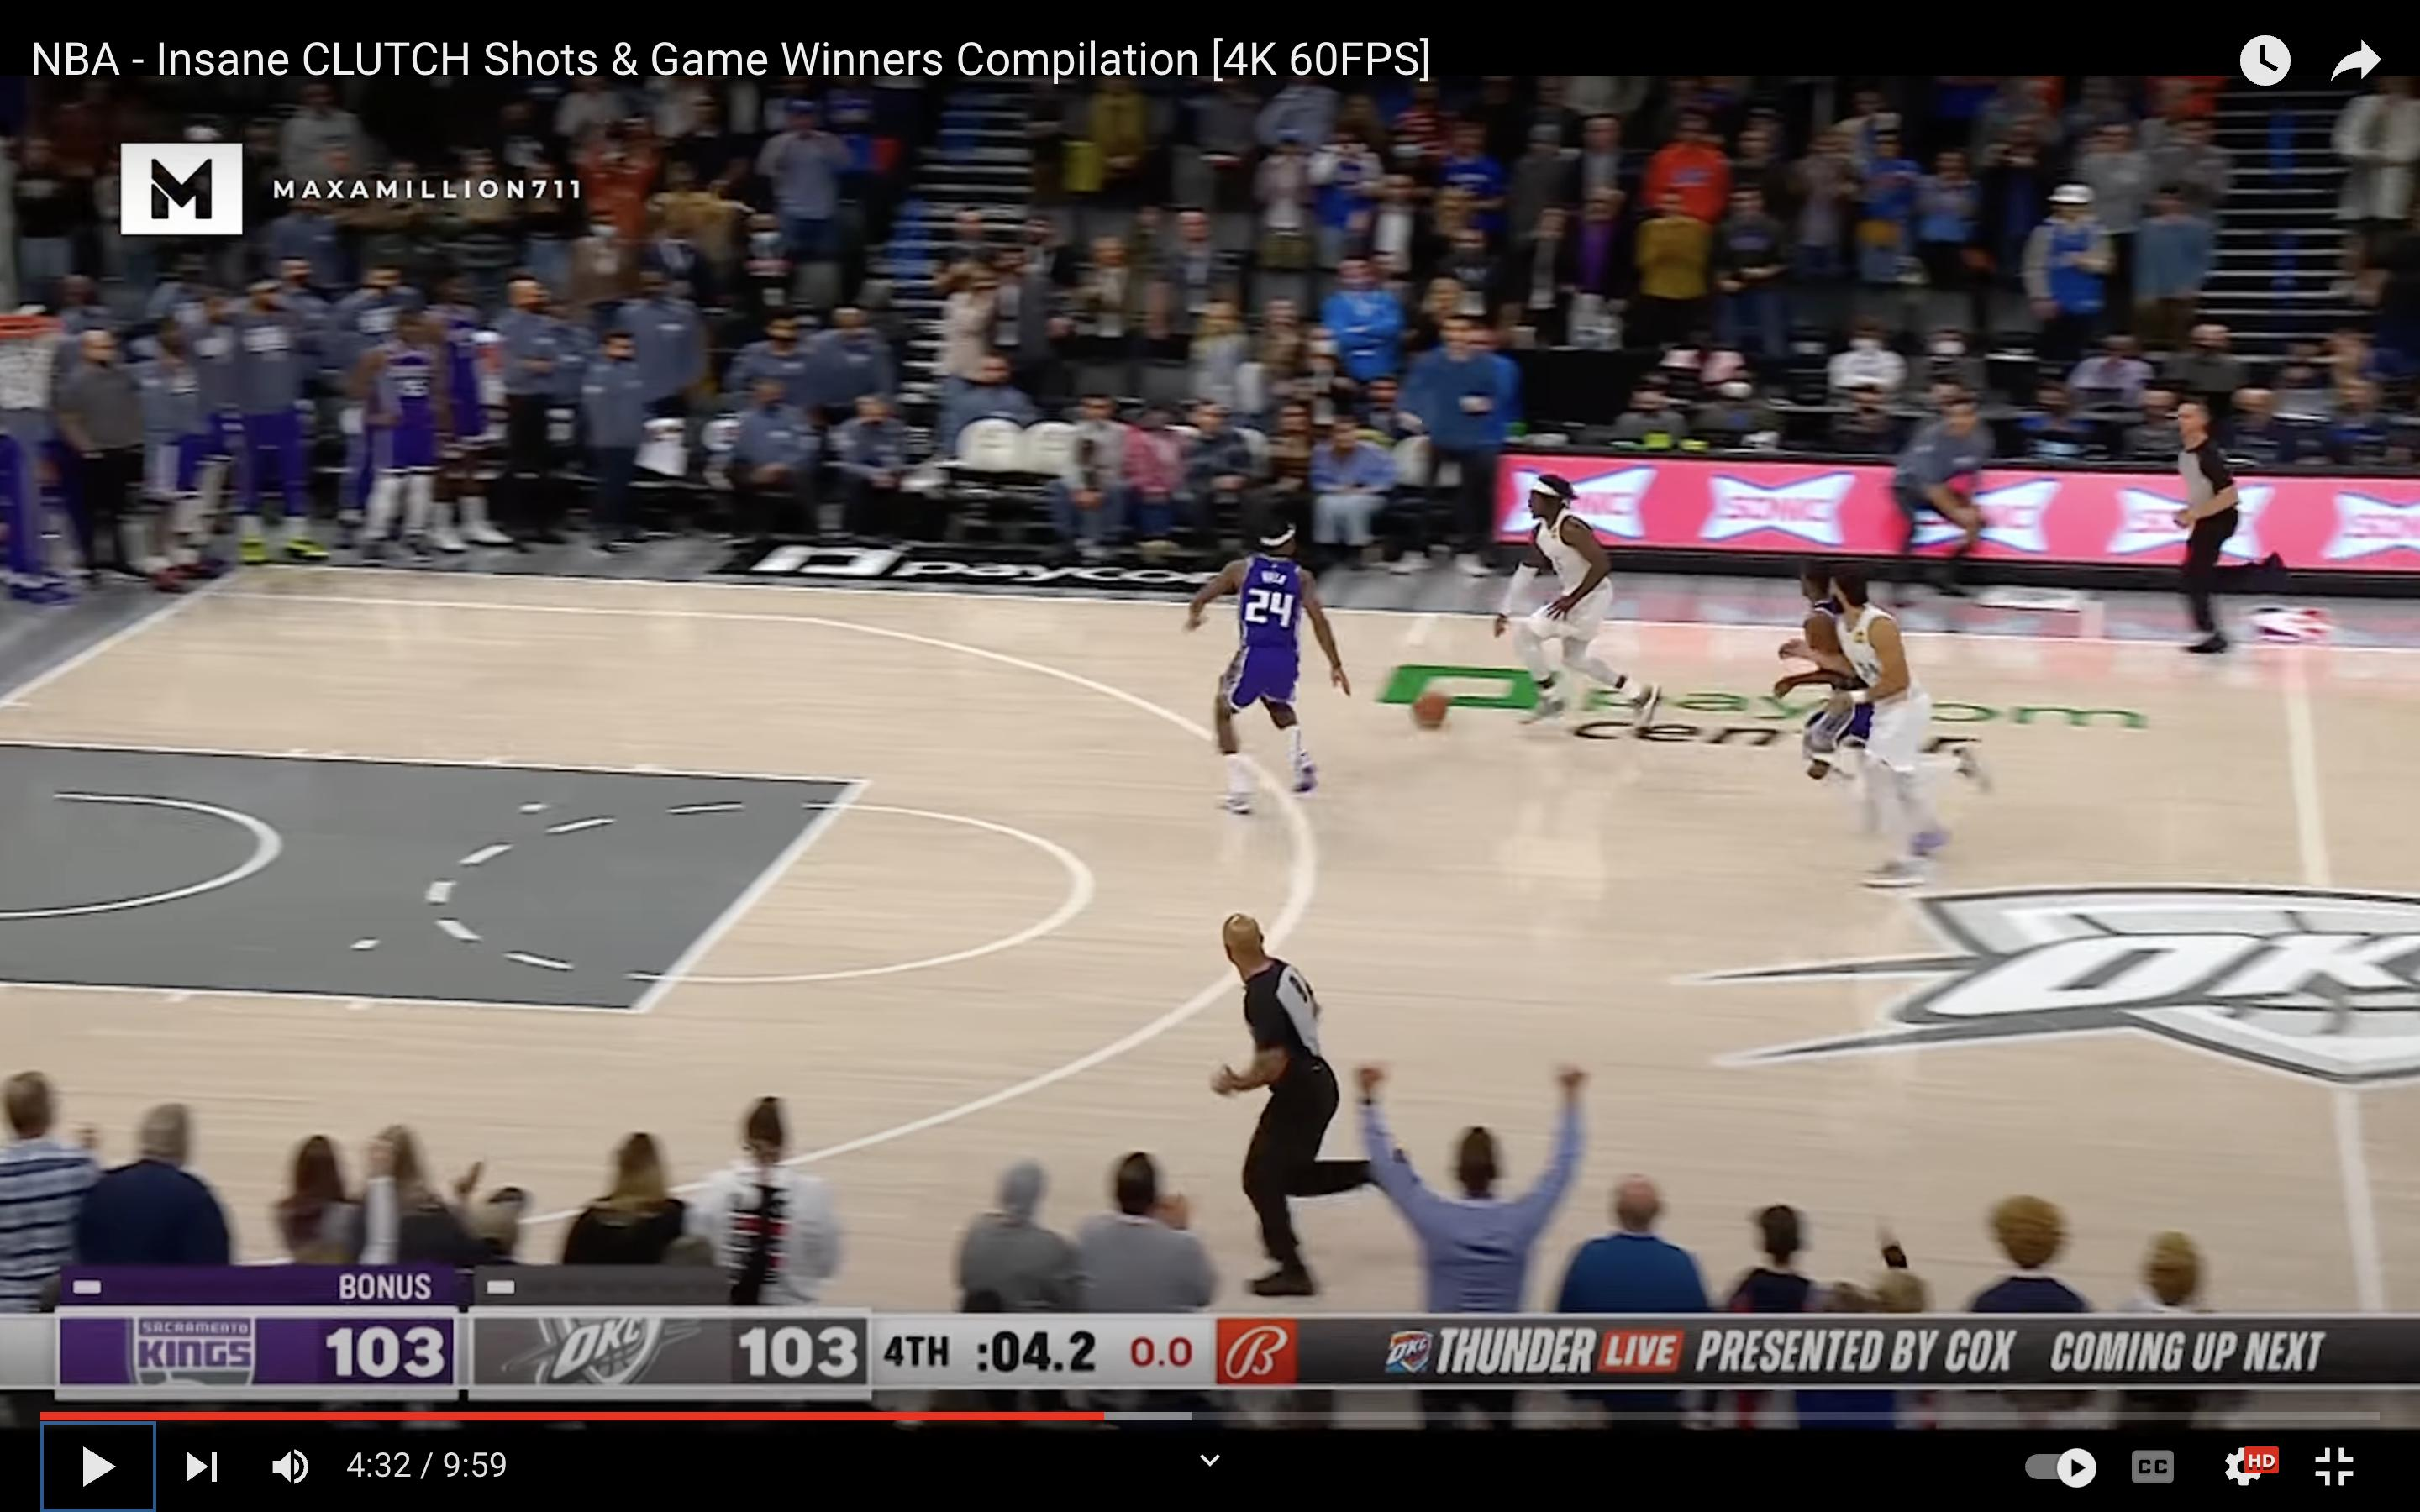Ball: (1410, 690, 1447, 725)
Basket: (0, 296, 67, 417)
Dribble: (1416, 717, 1444, 734)
Person: (1834, 560, 2008, 893), (1182, 518, 1356, 820), (1485, 460, 1664, 748), (1762, 542, 1897, 816)
Referee: (1200, 905, 1419, 1322), (2157, 396, 2294, 660)
